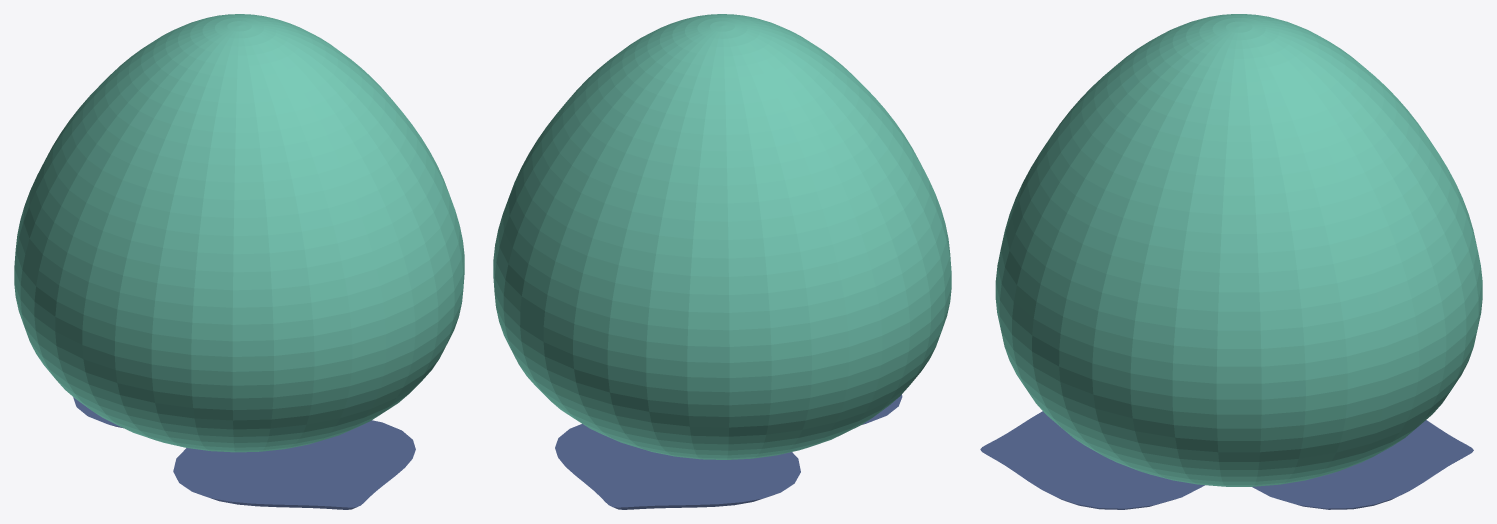
The model's file is melocoton.fbx.
3 views of the same model, side by side, from view 1: azimuth 30°, elevation 25°; view 2: azimuth 150°, elevation 25°; view 3: azimuth 270°, elevation 25° (orthographic). The views are drawn at different scales.
Visible parts, largest first — view 1: Sphere, Cylinder.001; view 2: Sphere, Cylinder; view 3: Sphere, Cylinder.001, Cylinder.
Boxes of the visible parts, box(x1,y1,x2,y2) form: Sphere: box(14, 14, 464, 452); Cylinder.001: box(173, 420, 415, 509); Sphere: box(493, 14, 951, 459); Cylinder: box(555, 424, 800, 509); Sphere: box(995, 14, 1482, 486); Cylinder.001: box(980, 411, 1204, 509); Cylinder: box(1252, 420, 1473, 509).
Bounding box in the file's own units: 6.16 × 6.05 × 6.39.
